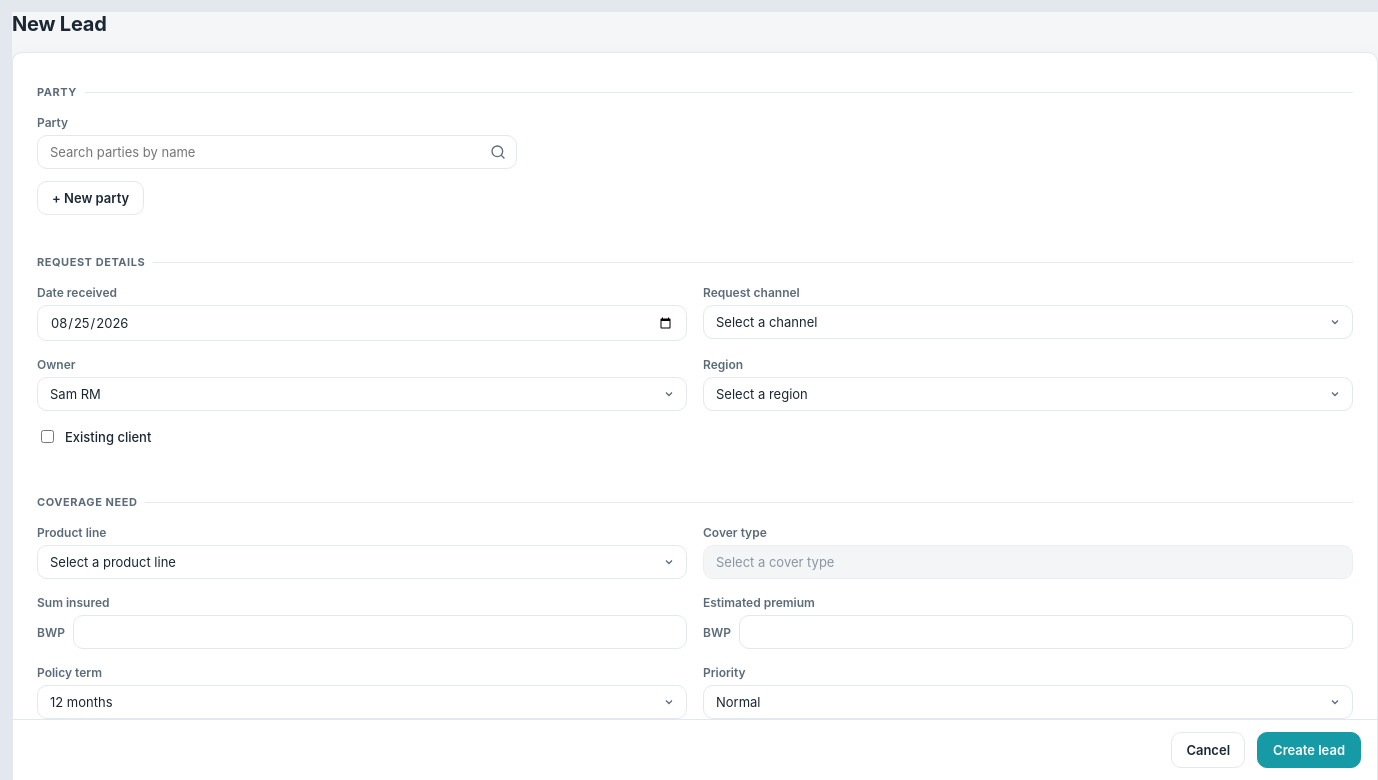
it: LeadFormPage › changeChannel_WhenBrokerChannelSelected_ShouldShowBrokerSelectAsRequired
The image size is (1378, 780).
Select "Broker portal" in the dropdown labelled "Request channel" at {"x": 1028, "y": 322}, box x1=703 y1=305 x2=1353 y2=339
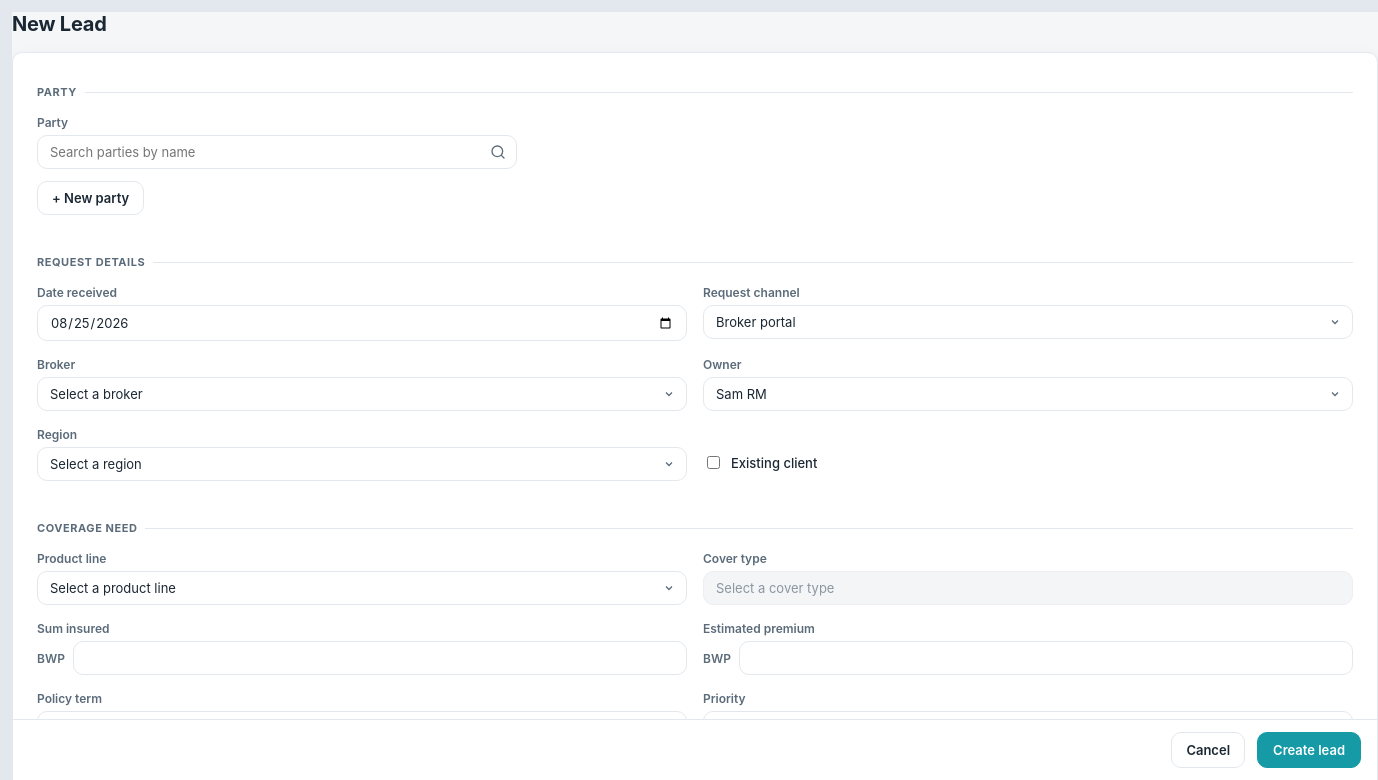
Now the dropdown with test id "broker-select" is shown, box x1=37 y1=377 x2=687 y2=411
